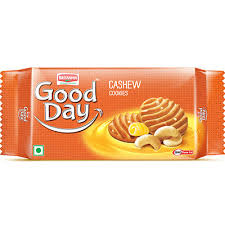gooday-medium: (5, 67, 225, 158)
